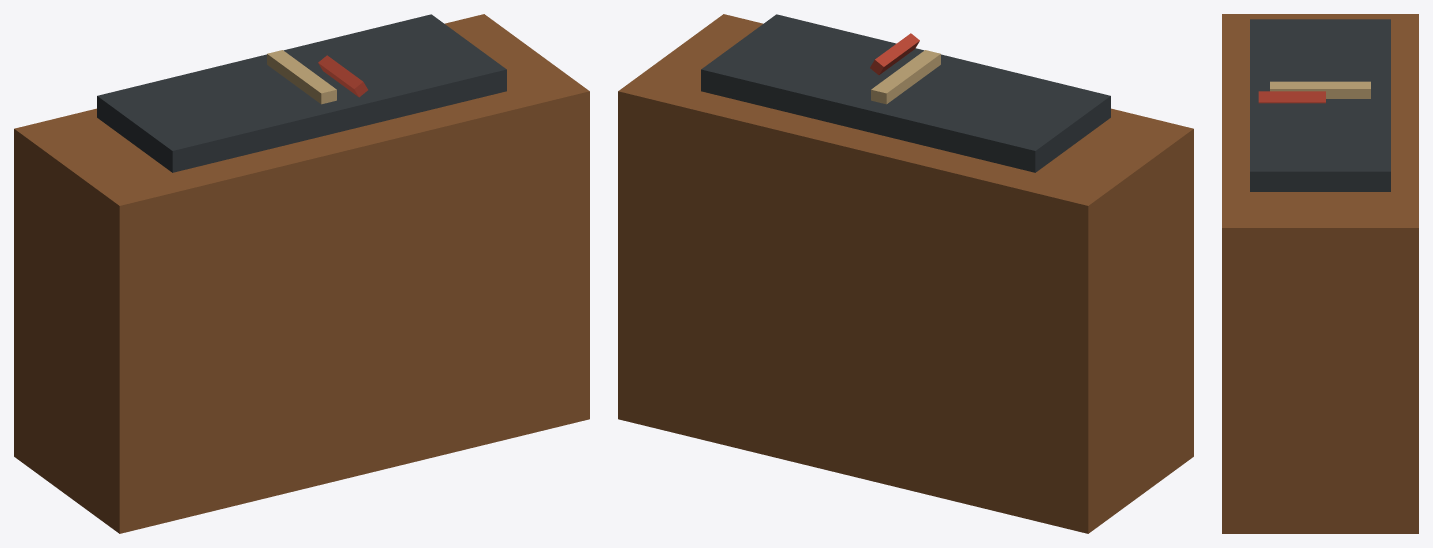
File: broken_clock.glb
3 renders of one model, left to right at view 1: azimuth 30°, elevation 25°; view 2: azimuth 150°, elevation 25°; view 3: azimuth 270°, elevation 25°, orthographic. The views are drawn at different scales.
Parts seen in each view (by area): view 1: broken_clock; view 2: broken_clock; view 3: broken_clock.
Part boxes in pixels (left/top/right/bottom): broken_clock: left=14, top=14, right=589, bottom=533; broken_clock: left=618, top=14, right=1193, bottom=533; broken_clock: left=1222, top=14, right=1418, bottom=533.
Bounding box in the file's own units: 0.09 × 0.0684 × 0.035.
